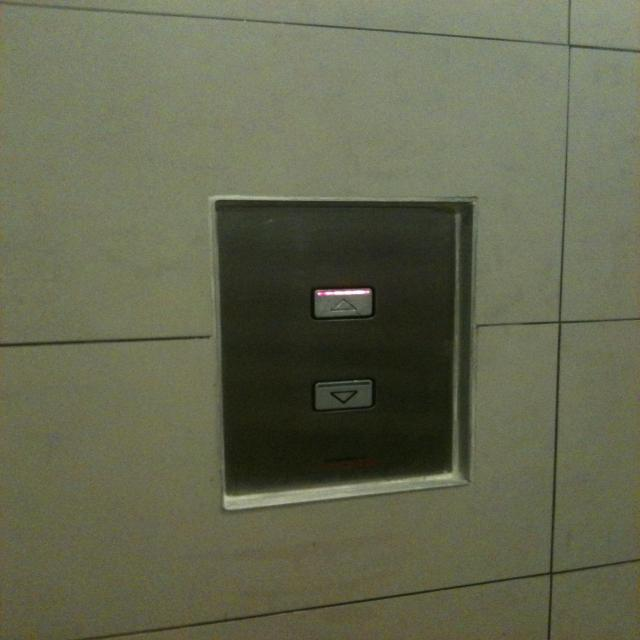down: (312, 376, 376, 414)
up: (307, 284, 376, 322)
